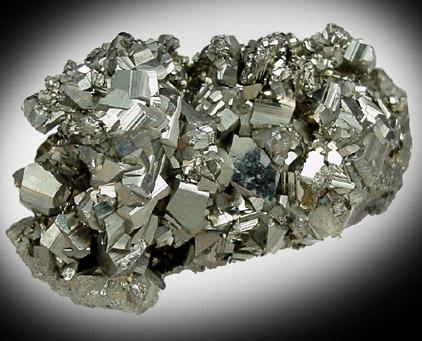pyrite: (7, 23, 413, 288)
